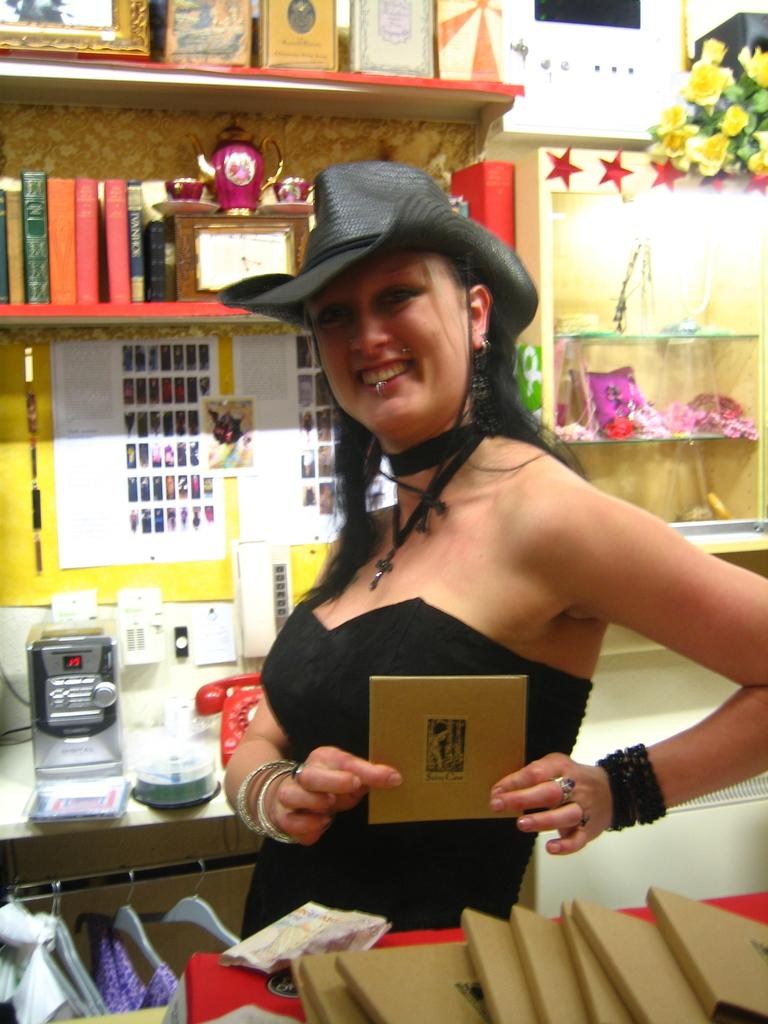Hat: (212, 162, 540, 344)
